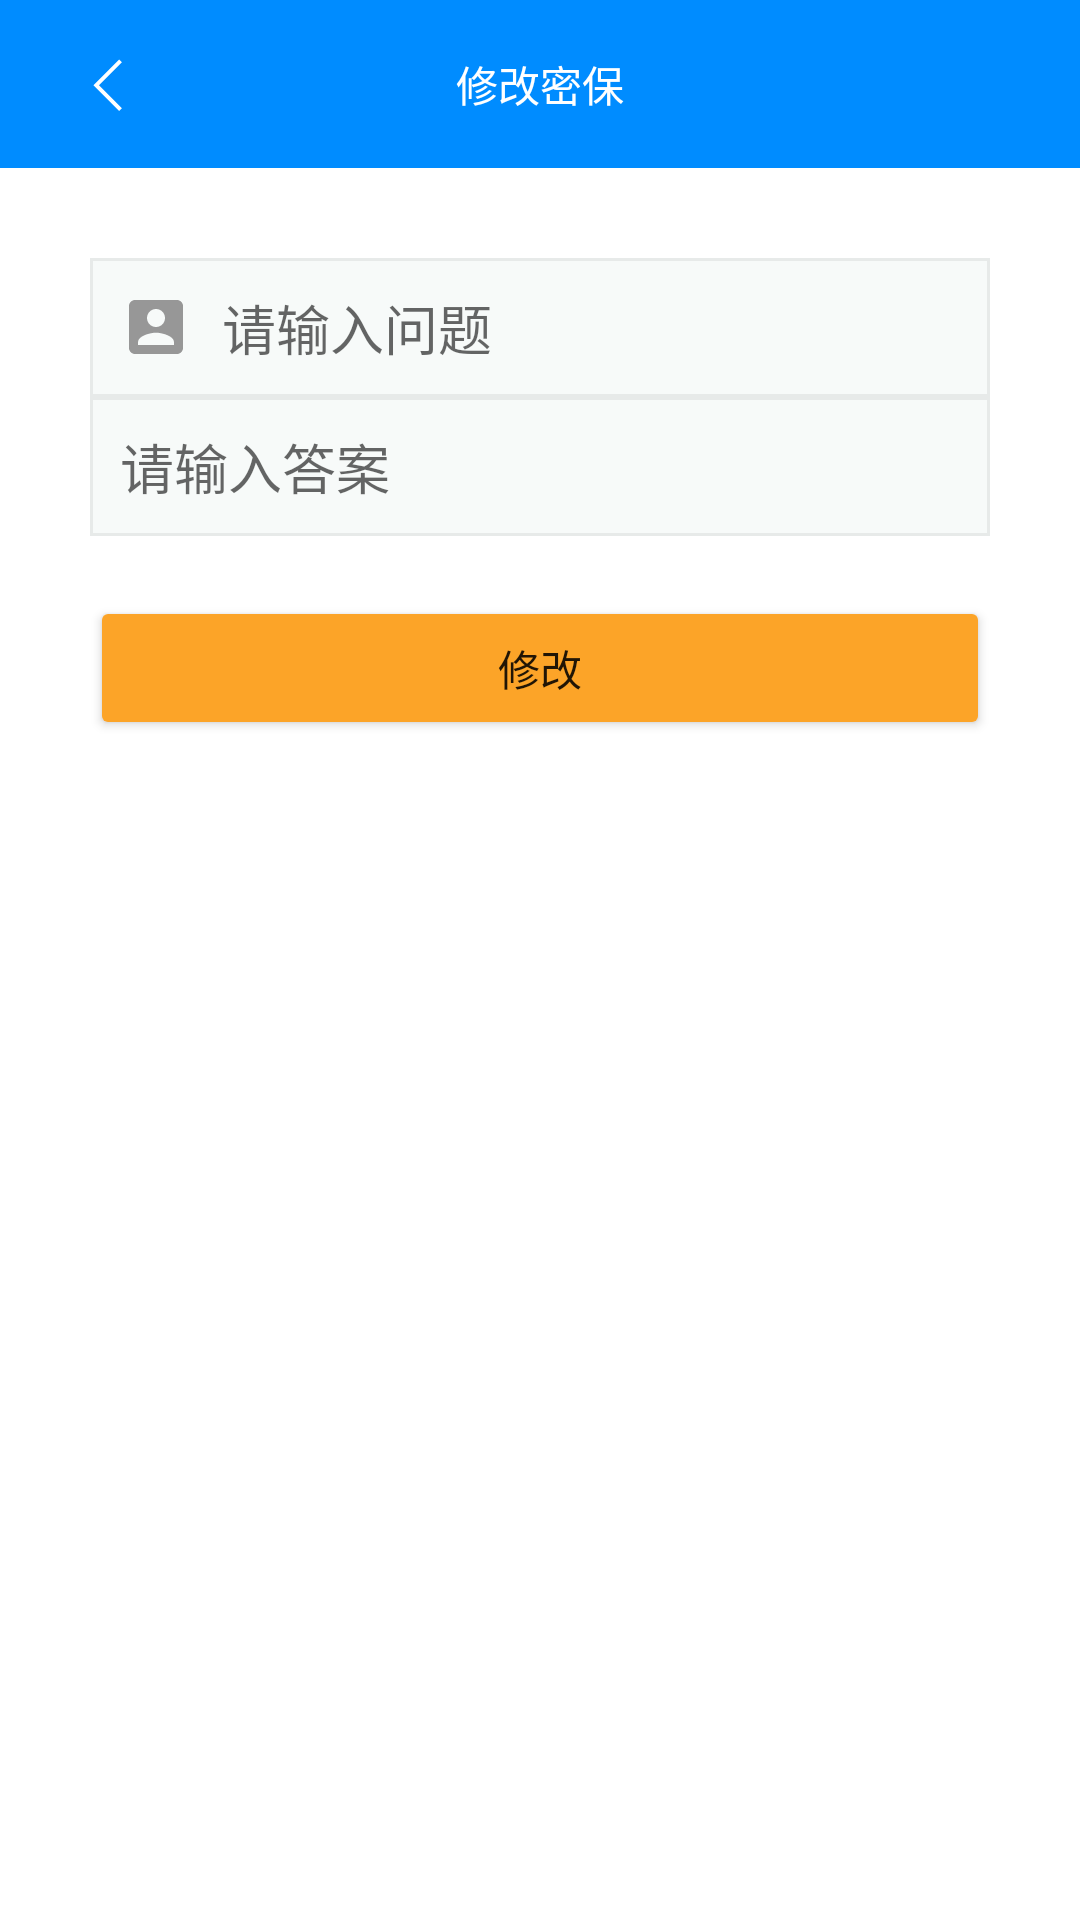

Screen size 1080×1920. Icon name, then its center in pixels as point (x, y):
back: point (107, 85)
